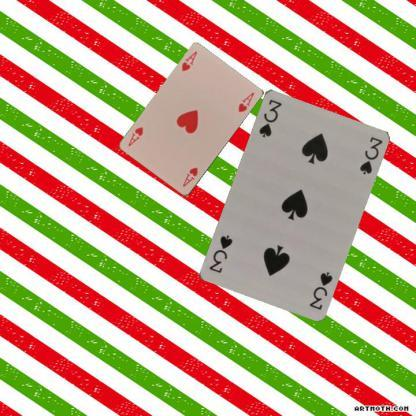3s: (306, 269, 334, 311), (256, 96, 283, 138)
Ah: (179, 48, 199, 73), (180, 164, 200, 188)
